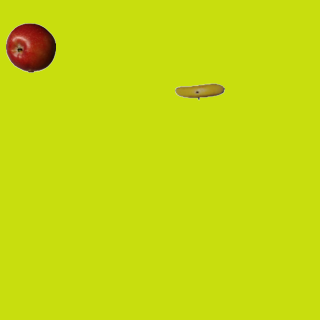Apple Braeburn: (5, 22, 55, 72)
Banana: (174, 66, 224, 116)
